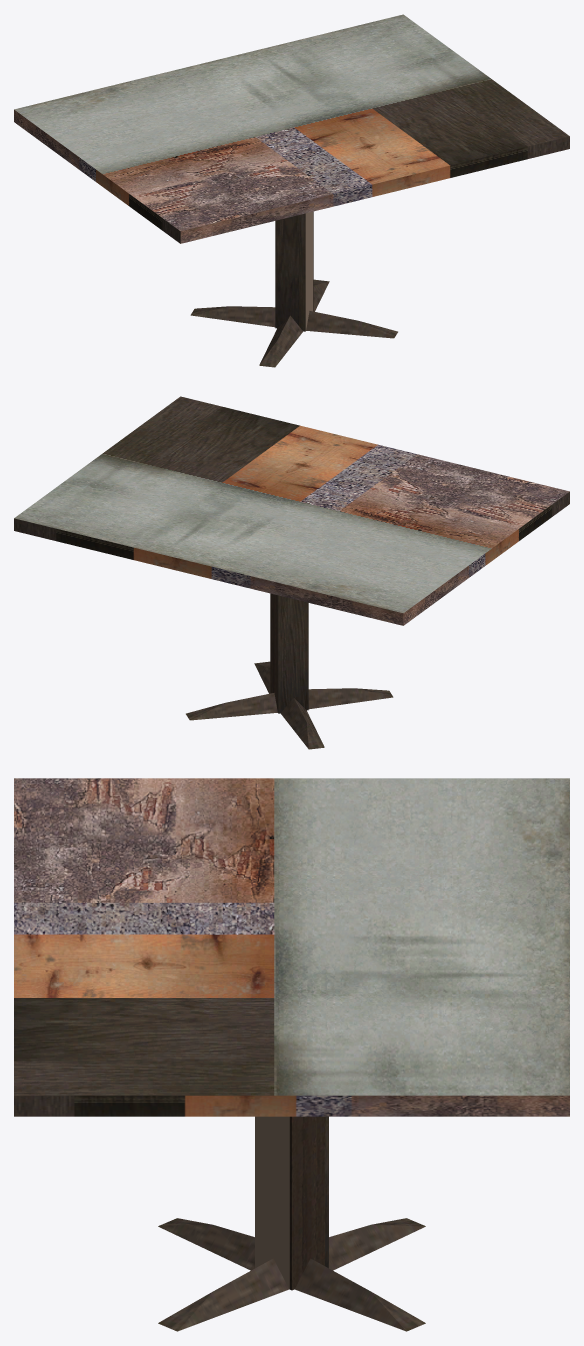
Rendered from boothtable1.fbx.
3 views of the same model, one above another, from view 1: azimuth 30°, elevation 25°; view 2: azimuth 150°, elevation 25°; view 3: azimuth 270°, elevation 25° (orthographic). The views are drawn at different scales.
Parts seen in each view (by area): view 1: mesh_0; view 2: mesh_0; view 3: mesh_0.
Part boxes in pixels (box(x1,y1,x2,y2)): mesh_0: box(14, 14, 569, 367); mesh_0: box(14, 396, 569, 749); mesh_0: box(14, 778, 569, 1331).
Size of the model in its own units: 155 by 76.34 by 115.
Materials: 1 (1 with a texture image).
